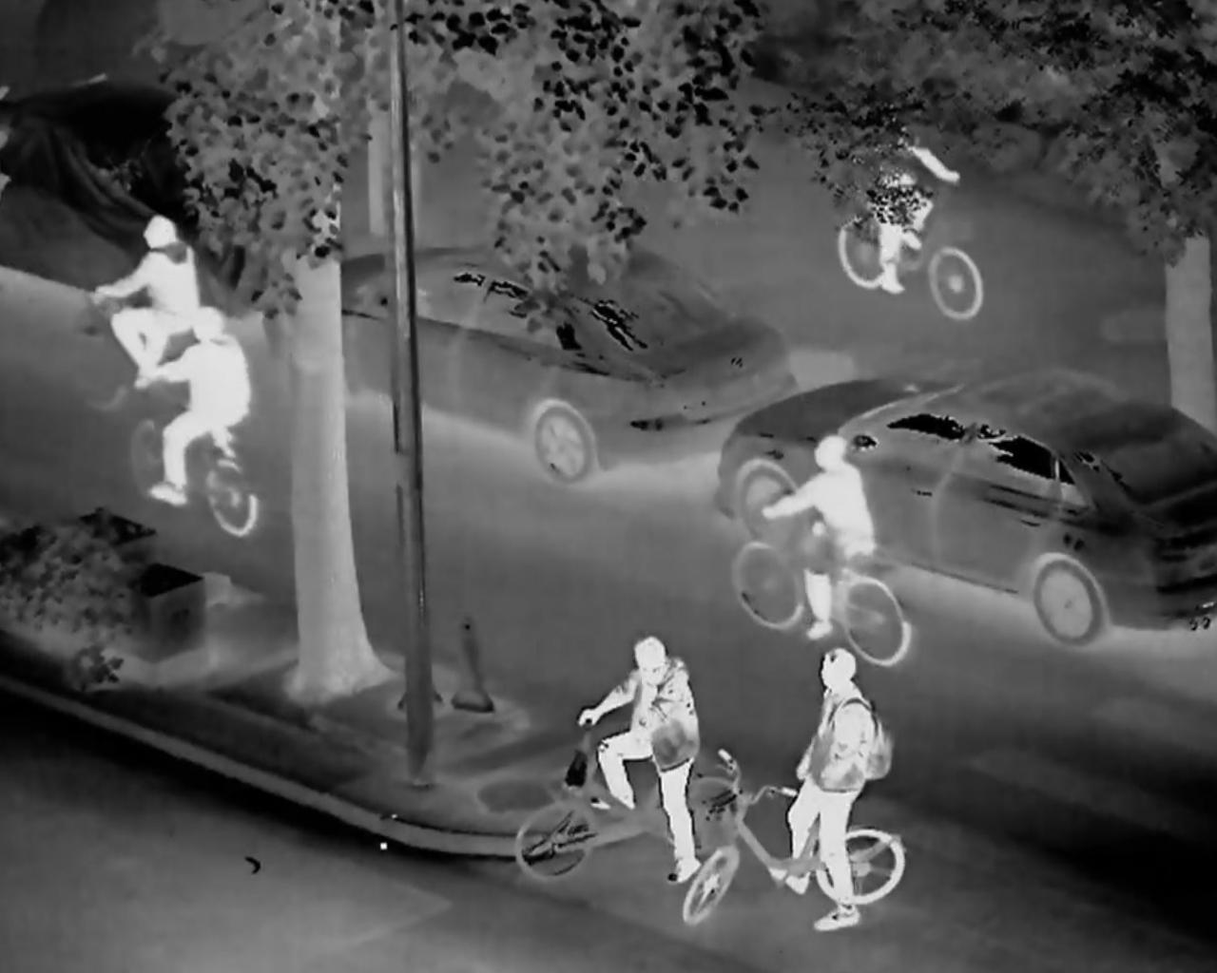person: (786, 646, 898, 940), (585, 628, 715, 868), (831, 106, 975, 300), (767, 410, 892, 627), (147, 304, 267, 529), (92, 204, 204, 365)
